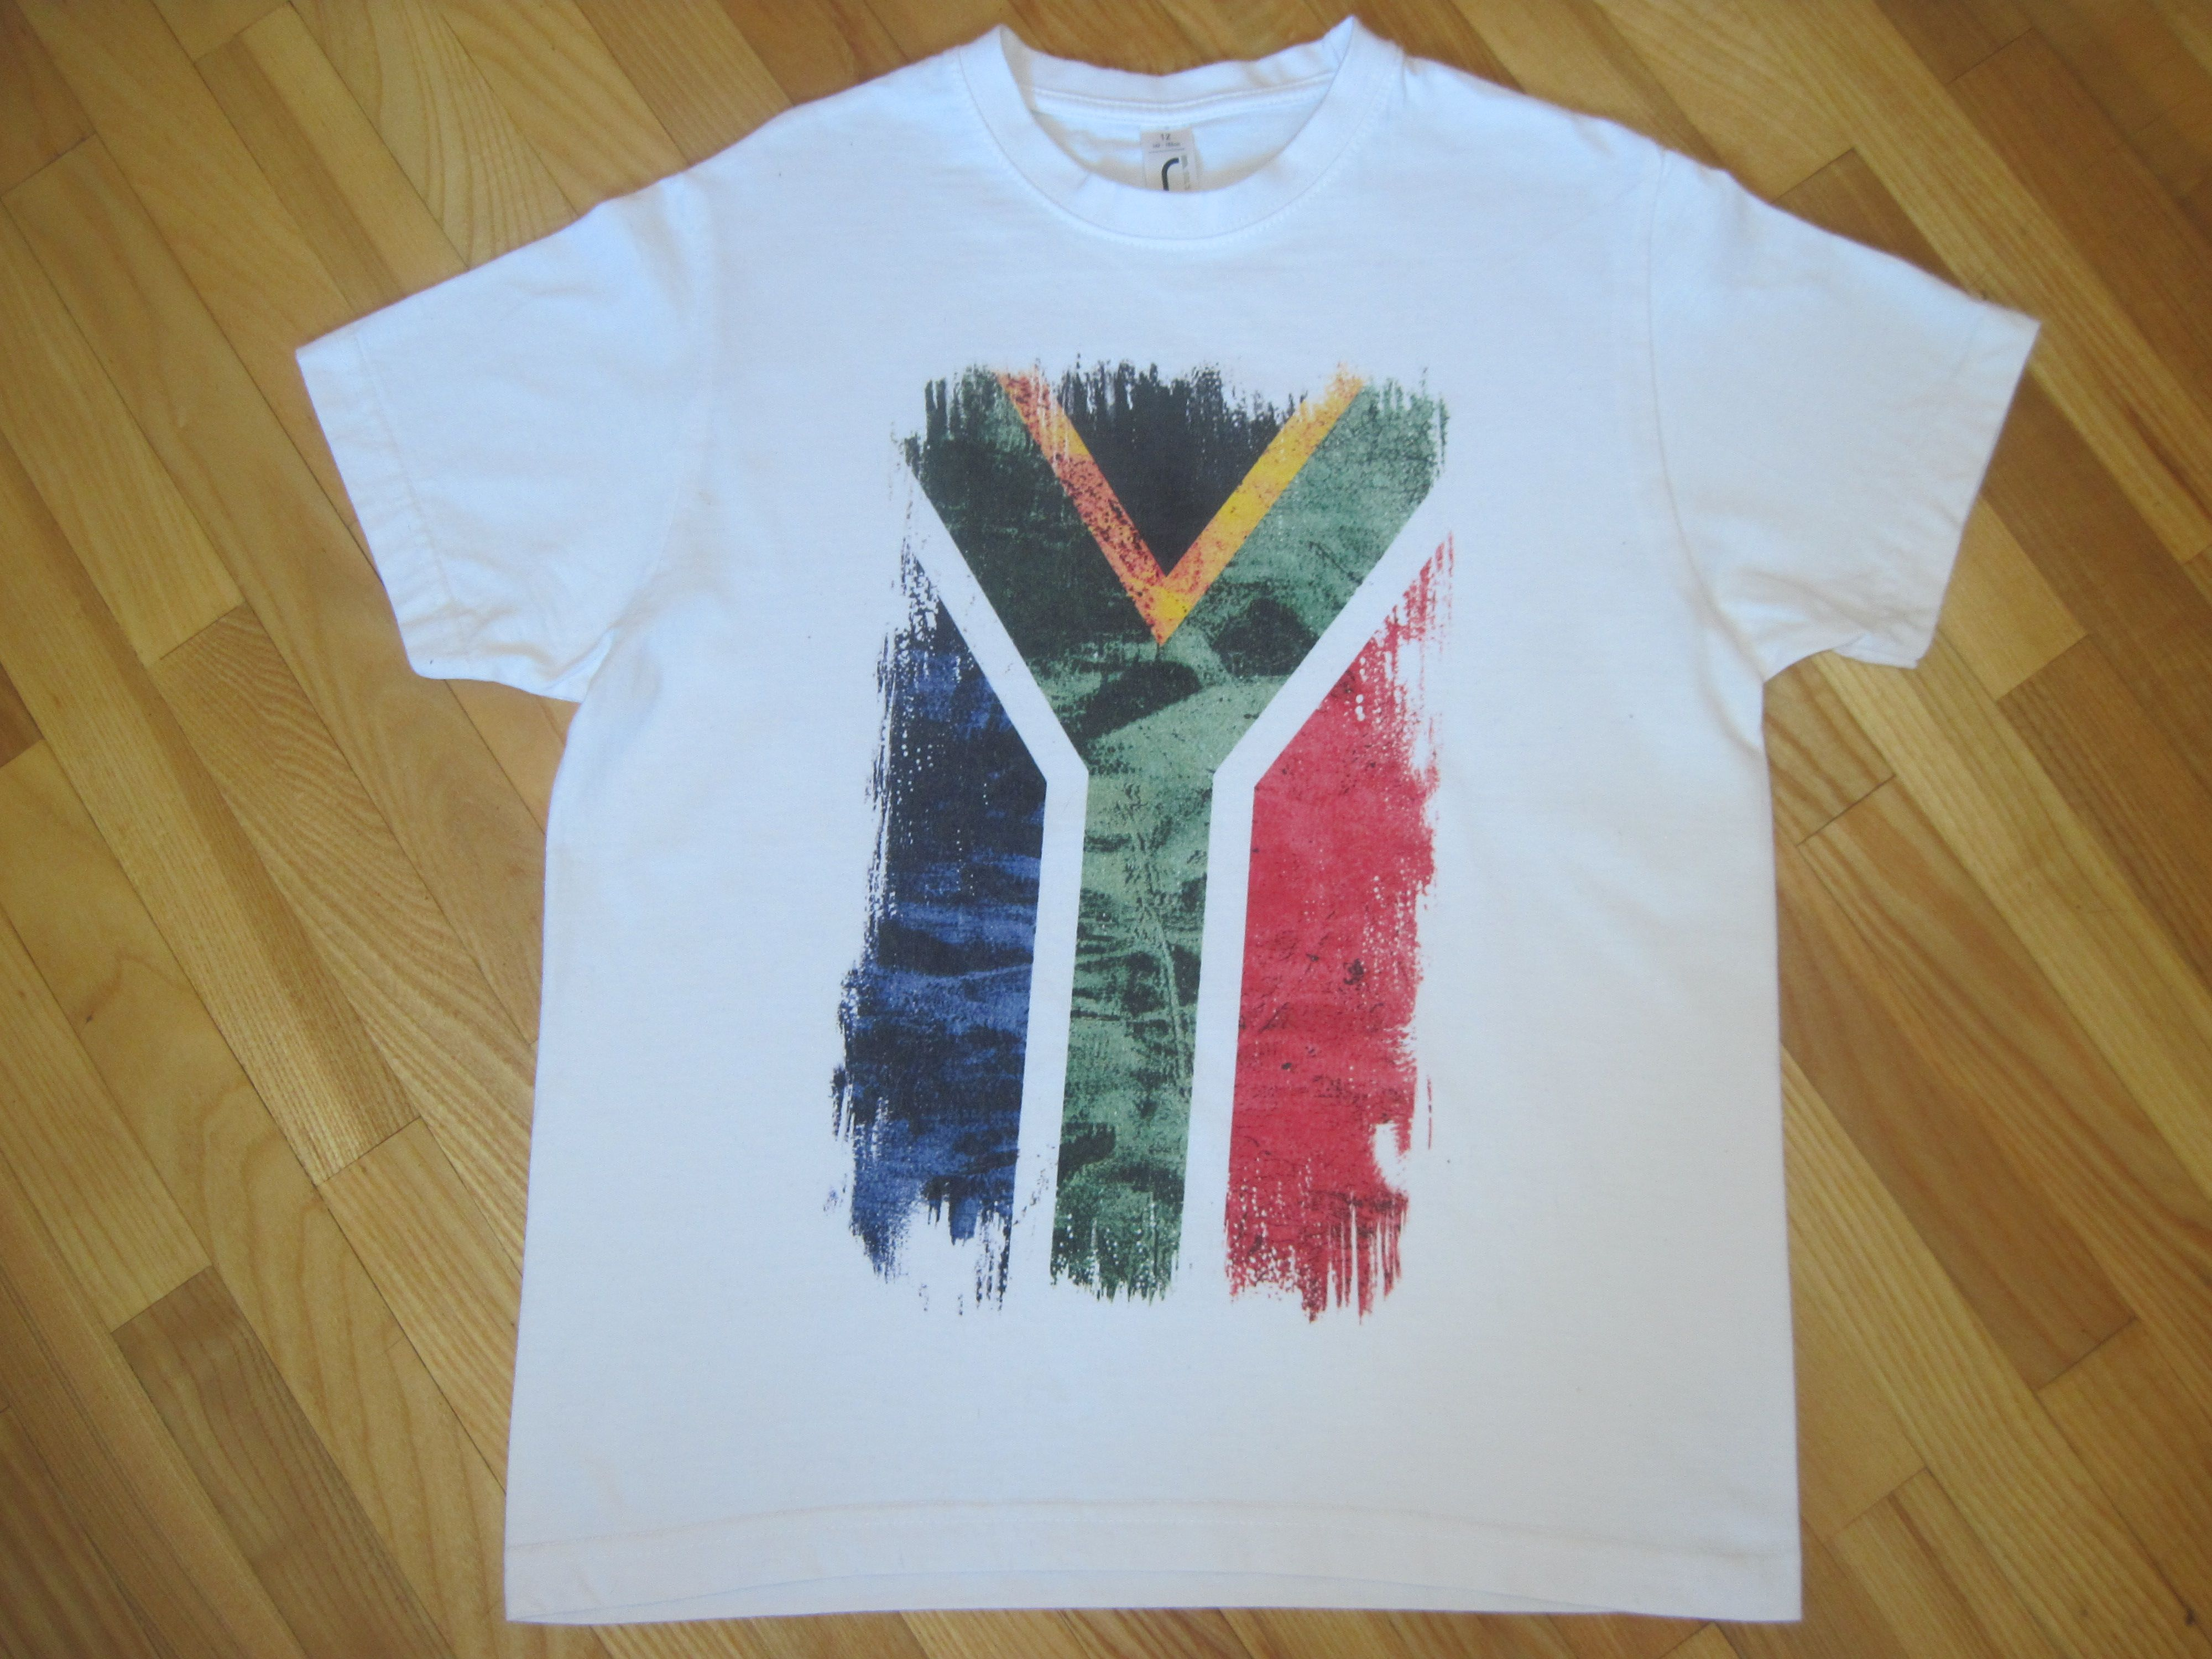clothes: (308, 21, 2024, 1610)
